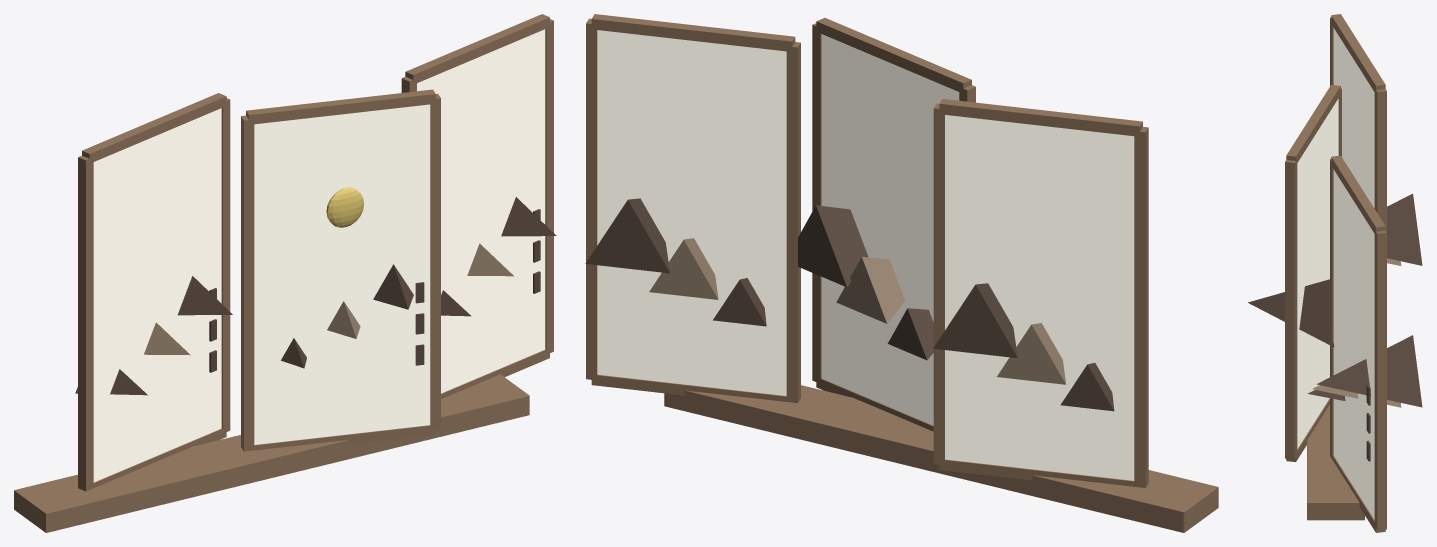
The model's file is sumi_e_panel.glb.
3 views of the same model, side by side, from view 1: azimuth 30°, elevation 25°; view 2: azimuth 150°, elevation 25°; view 3: azimuth 270°, elevation 25° (orthographic). The views are drawn at different scales.
Visible parts, largest first — view 1: sumi_e_panel; view 2: sumi_e_panel; view 3: sumi_e_panel.
Boxes of the visible parts, left/top/right/bottom form: sumi_e_panel: left=14, top=14, right=556, bottom=532; sumi_e_panel: left=585, top=14, right=1218, bottom=532; sumi_e_panel: left=1248, top=14, right=1422, bottom=532.
Size of the model in its own units: 1.47 by 0.9125 by 0.4544.
